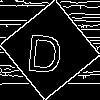D: (25, 25, 66, 74)
